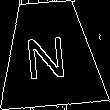N_N: (27, 27, 73, 81)
